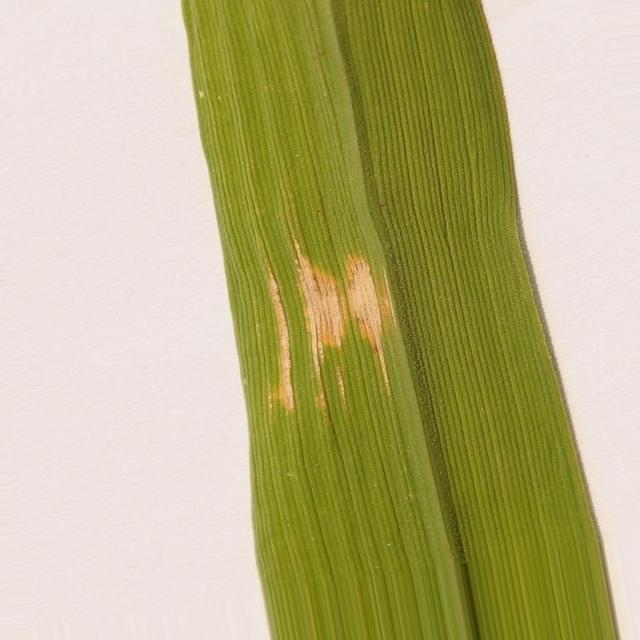Bacterial_Leaf_Blight: (294, 241, 390, 409), (268, 268, 296, 412)
